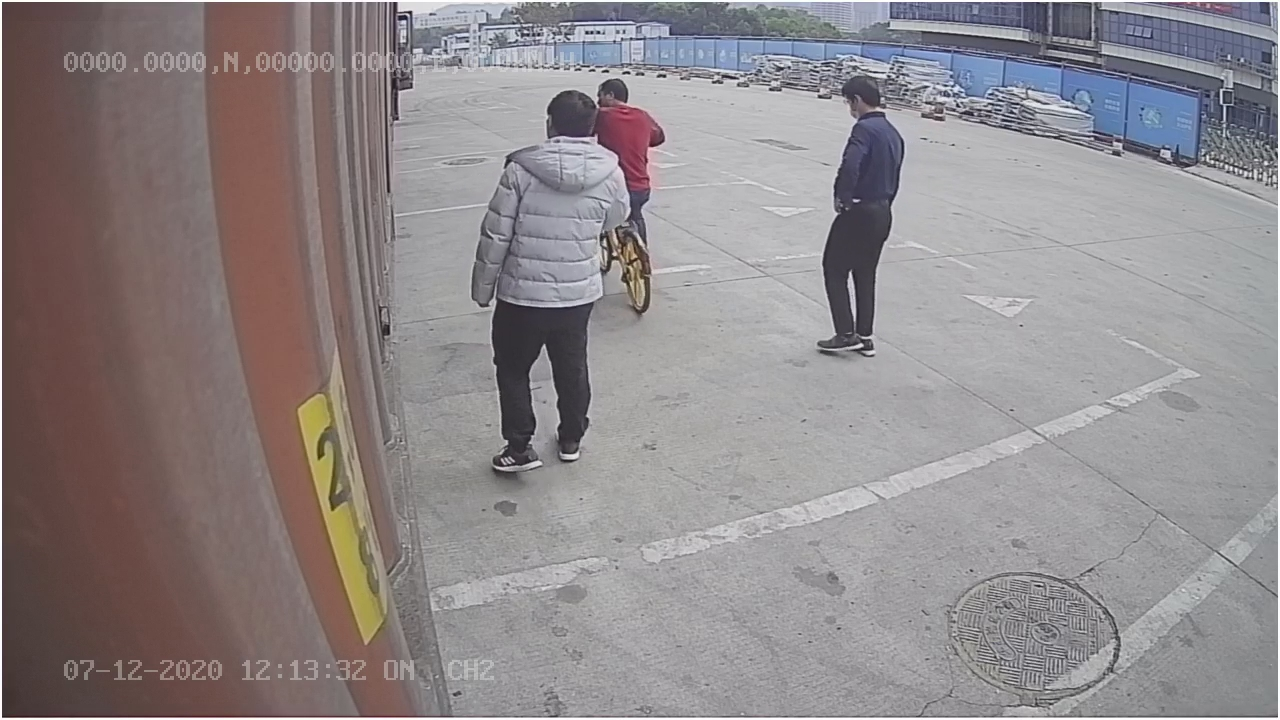person: (816, 73, 908, 363)
